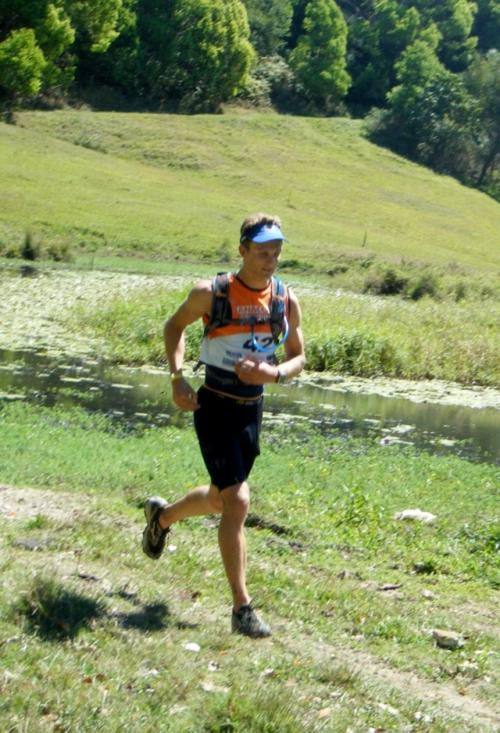person: (140, 209, 309, 642)
